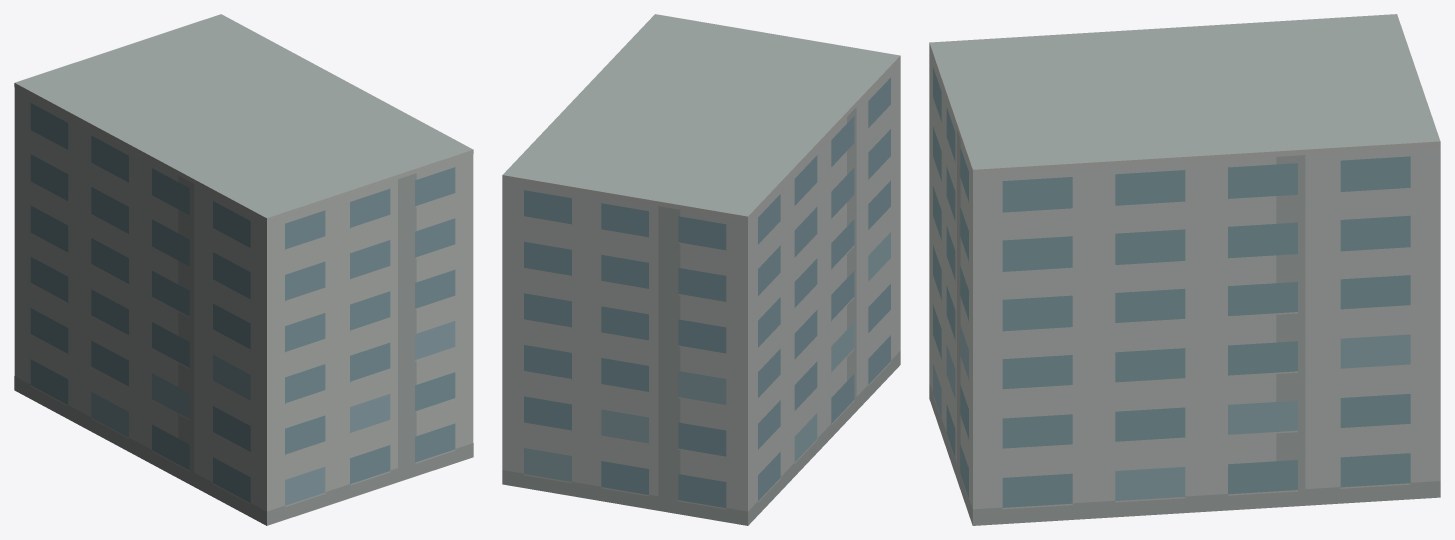
File: survey-upis-32920201.glb
3 views of the same model, side by side, from view 1: azimuth 30°, elevation 25°; view 2: azimuth 150°, elevation 25°; view 3: azimuth 270°, elevation 25° (orthographic). The views are drawn at different scales.
Parts seen in each view (by area): view 1: survey-upis-32920201.tmp; view 2: survey-upis-32920201.tmp; view 3: survey-upis-32920201.tmp.
Boxes of the visible parts, box(x1,y1,x2,y2) form: survey-upis-32920201.tmp: box(14, 14, 473, 525); survey-upis-32920201.tmp: box(502, 14, 900, 525); survey-upis-32920201.tmp: box(929, 14, 1440, 525).
Bounding box in the file's own units: 15.02 × 16 × 20.82.
